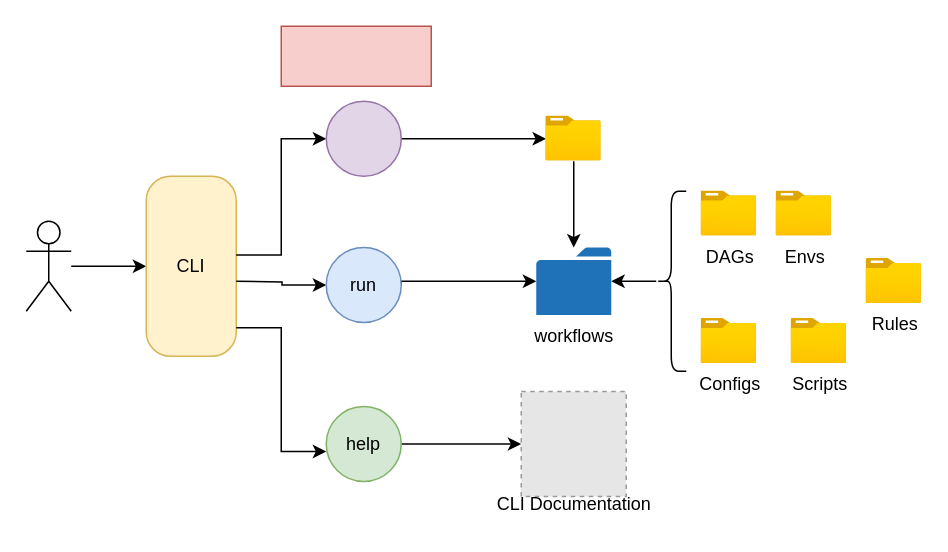
The diagram is 948 pixels wide and 552 high, and some of its shapes have lost their labels. Grey dashed boxes stand in for pictures. Each missing label, with the centre of its shape:
data: pixel 573 138
init: pixel 363 138
Modes: pixel 355 55
User: pixel 48 265
